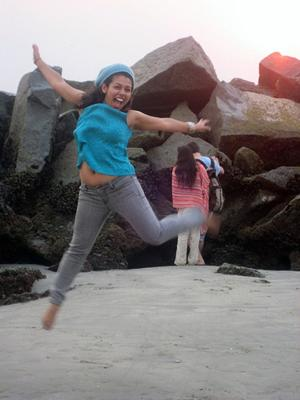person: (31, 48, 218, 333)
